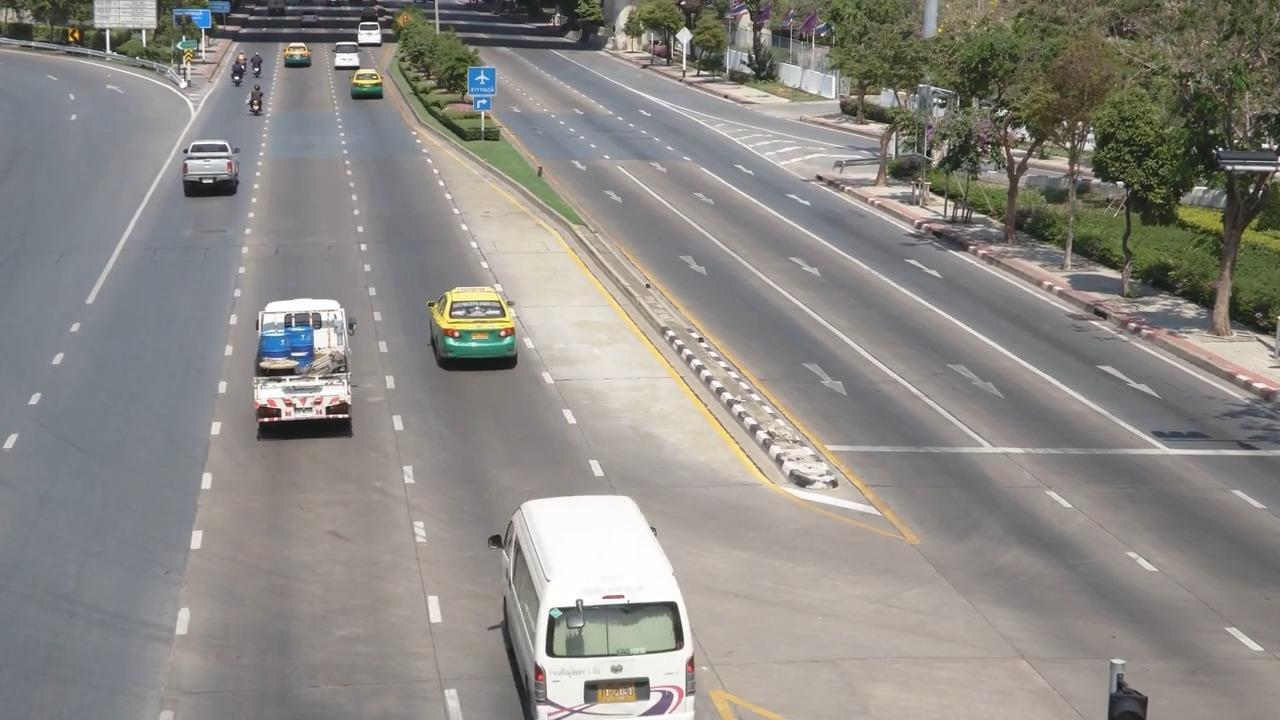CAR: (473, 473, 734, 720), (235, 277, 380, 465), (421, 263, 536, 386), (168, 129, 249, 210), (341, 64, 398, 118), (272, 33, 321, 78), (323, 41, 373, 75), (353, 12, 394, 52)
MOTOR: (237, 82, 280, 131), (241, 49, 279, 96), (216, 57, 250, 104)
